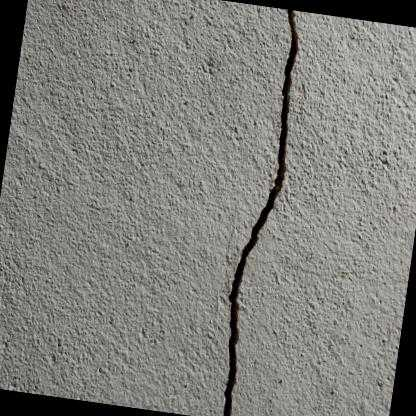crack: (222, 9, 298, 416)
